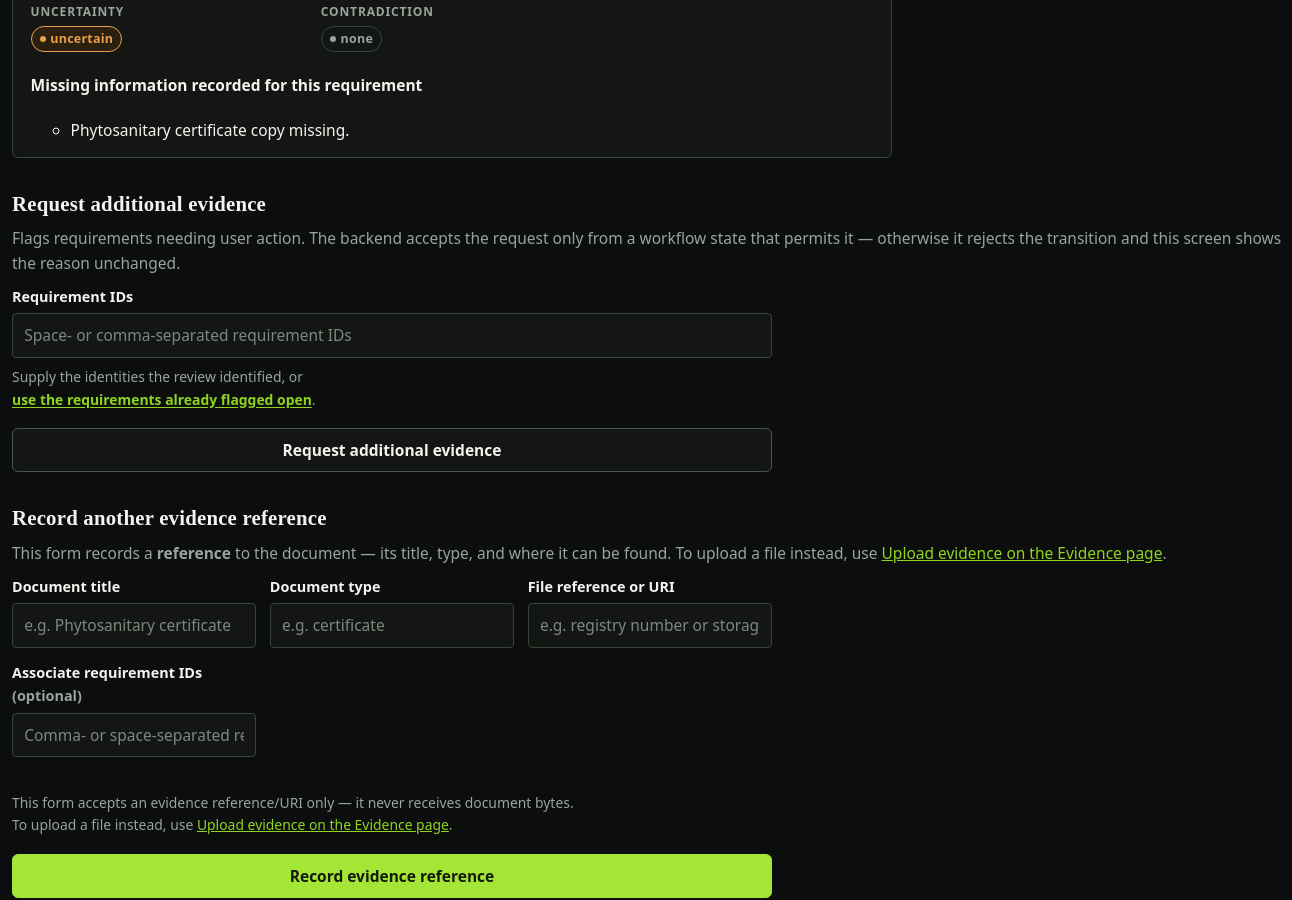
AdditionalEvidencePage › requires requirement identities to request evidence
(page scrolled)
Click the button "Request additional evidence".
click(392, 450)  # box [12,428,772,472]
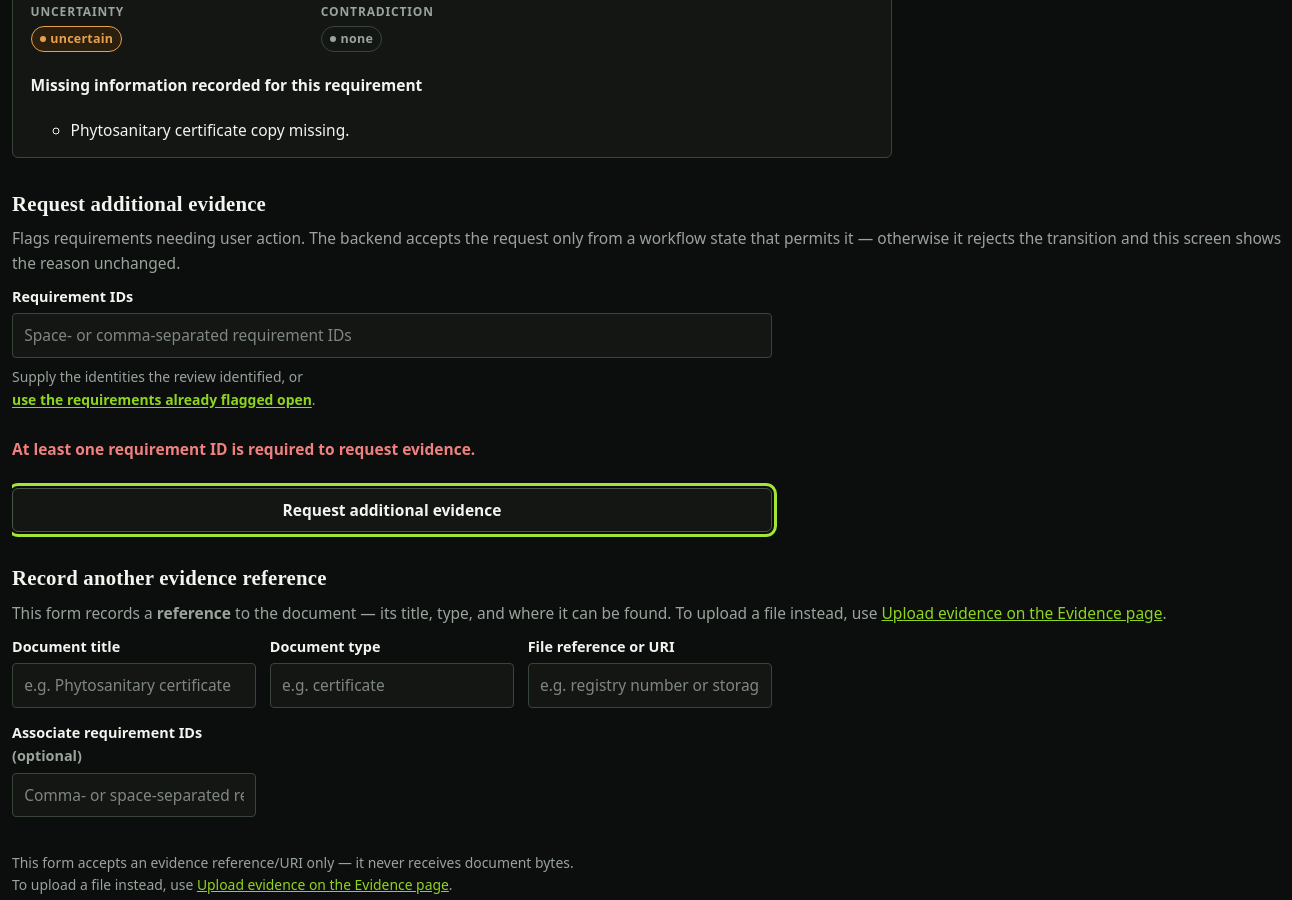
Check: the message shows "At least one requirement ID", box [12,438,475,460]
